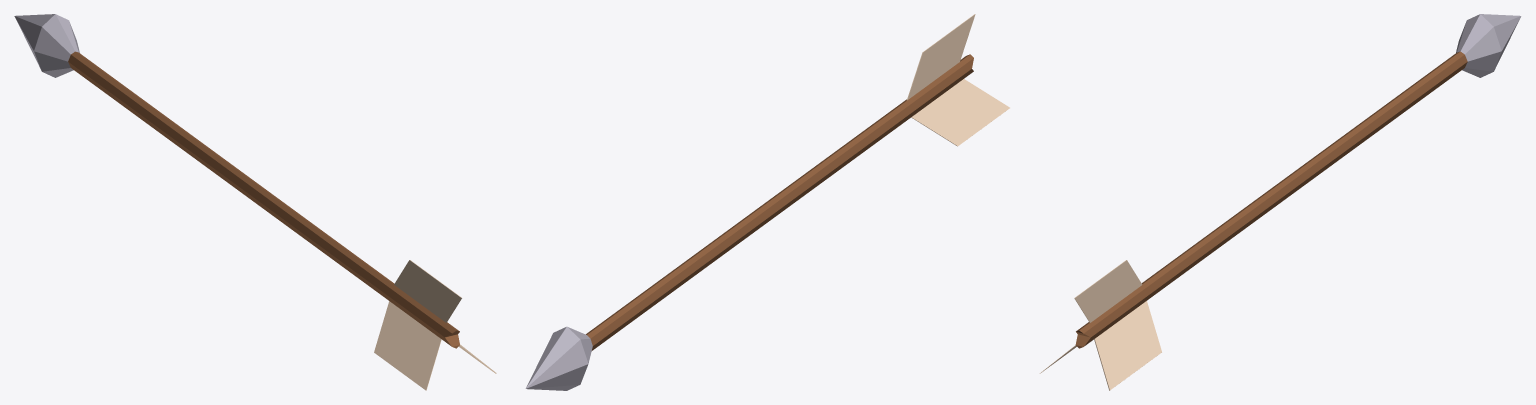
The model's file is wrrow.fbx.
3 views of the same model, side by side, from view 1: azimuth 30°, elevation 25°; view 2: azimuth 150°, elevation 25°; view 3: azimuth 330°, elevation 25° (orthographic).
Parts seen in each view (by area): view 1: Cube; view 2: Cube; view 3: Cube.
Boxes of the visible parts, box(x1,y1,x2,y2) form: Cube: box(14, 14, 496, 390); Cube: box(525, 14, 1009, 390); Cube: box(1039, 14, 1521, 390).
Size of the model in its own units: 7.13 by 8.17 by 78.3.
